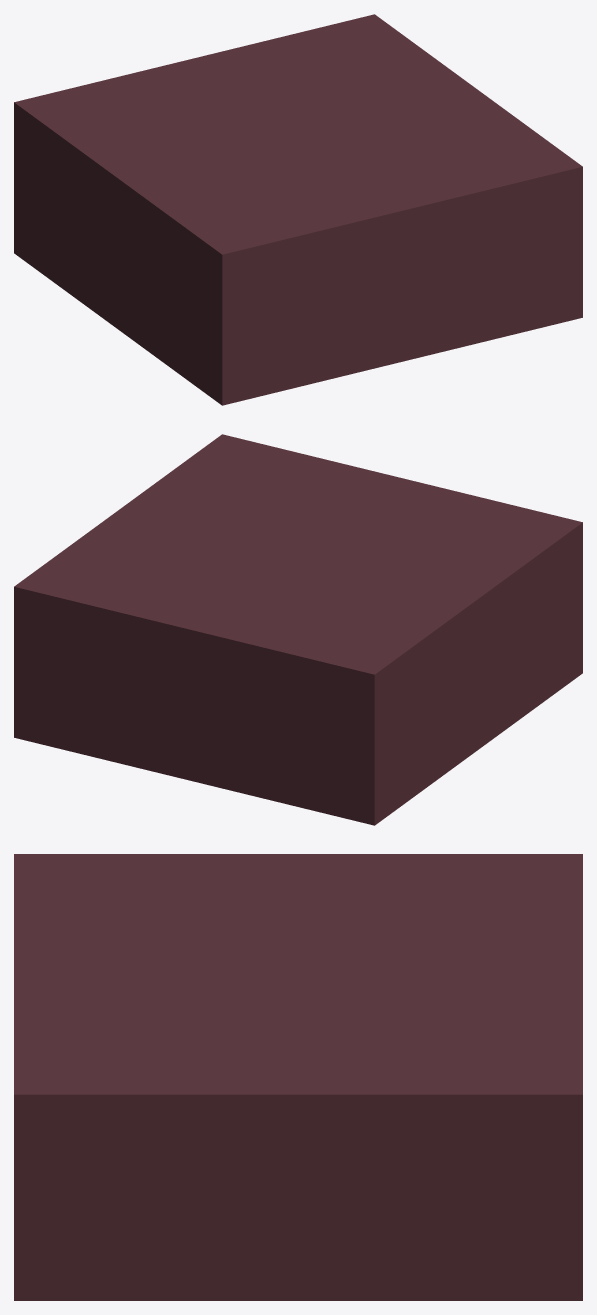
Rendered from buildings-pool-part-middle-1x1m.glb.
3 views of the same model, one above another, from view 1: azimuth 30°, elevation 25°; view 2: azimuth 150°, elevation 25°; view 3: azimuth 270°, elevation 25° (orthographic). The views are drawn at different scales.
Visible parts, largest first — view 1: pool-part-middle-1x1m; view 2: pool-part-middle-1x1m; view 3: pool-part-middle-1x1m.
Part boxes in pixels (x1,y1,x2,y2): pool-part-middle-1x1m: (14,14,582,405); pool-part-middle-1x1m: (14,434,582,825); pool-part-middle-1x1m: (14,854,582,1300).
Size of the model in its own units: 1 by 0.4 by 1.
